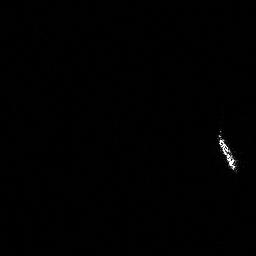ship: (213, 127, 242, 175)
